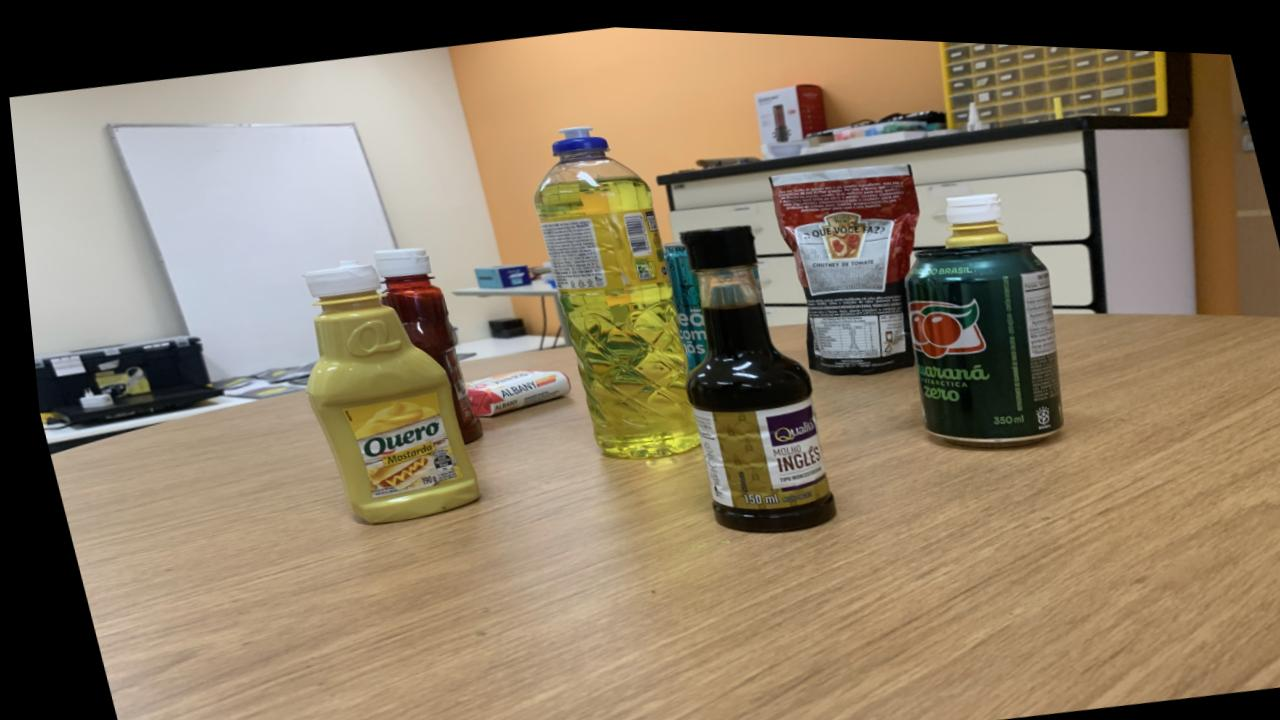Detergent-Cleanup_Items: (532, 121, 691, 453)
English_Sauce-Pantry_Items: (676, 218, 826, 525)
Guarana_Can-Drinks: (900, 232, 1056, 435)
Ketchup-Pantry_Items: (370, 244, 475, 437)
Mustard-Pantry_Items: (298, 256, 470, 520), (941, 183, 1004, 239)
Soap-Cleanup_Items: (459, 364, 564, 412)
Tea-Drinks: (659, 236, 701, 363)
Tomato_Sauce-Pantry_Items: (766, 156, 916, 367)
